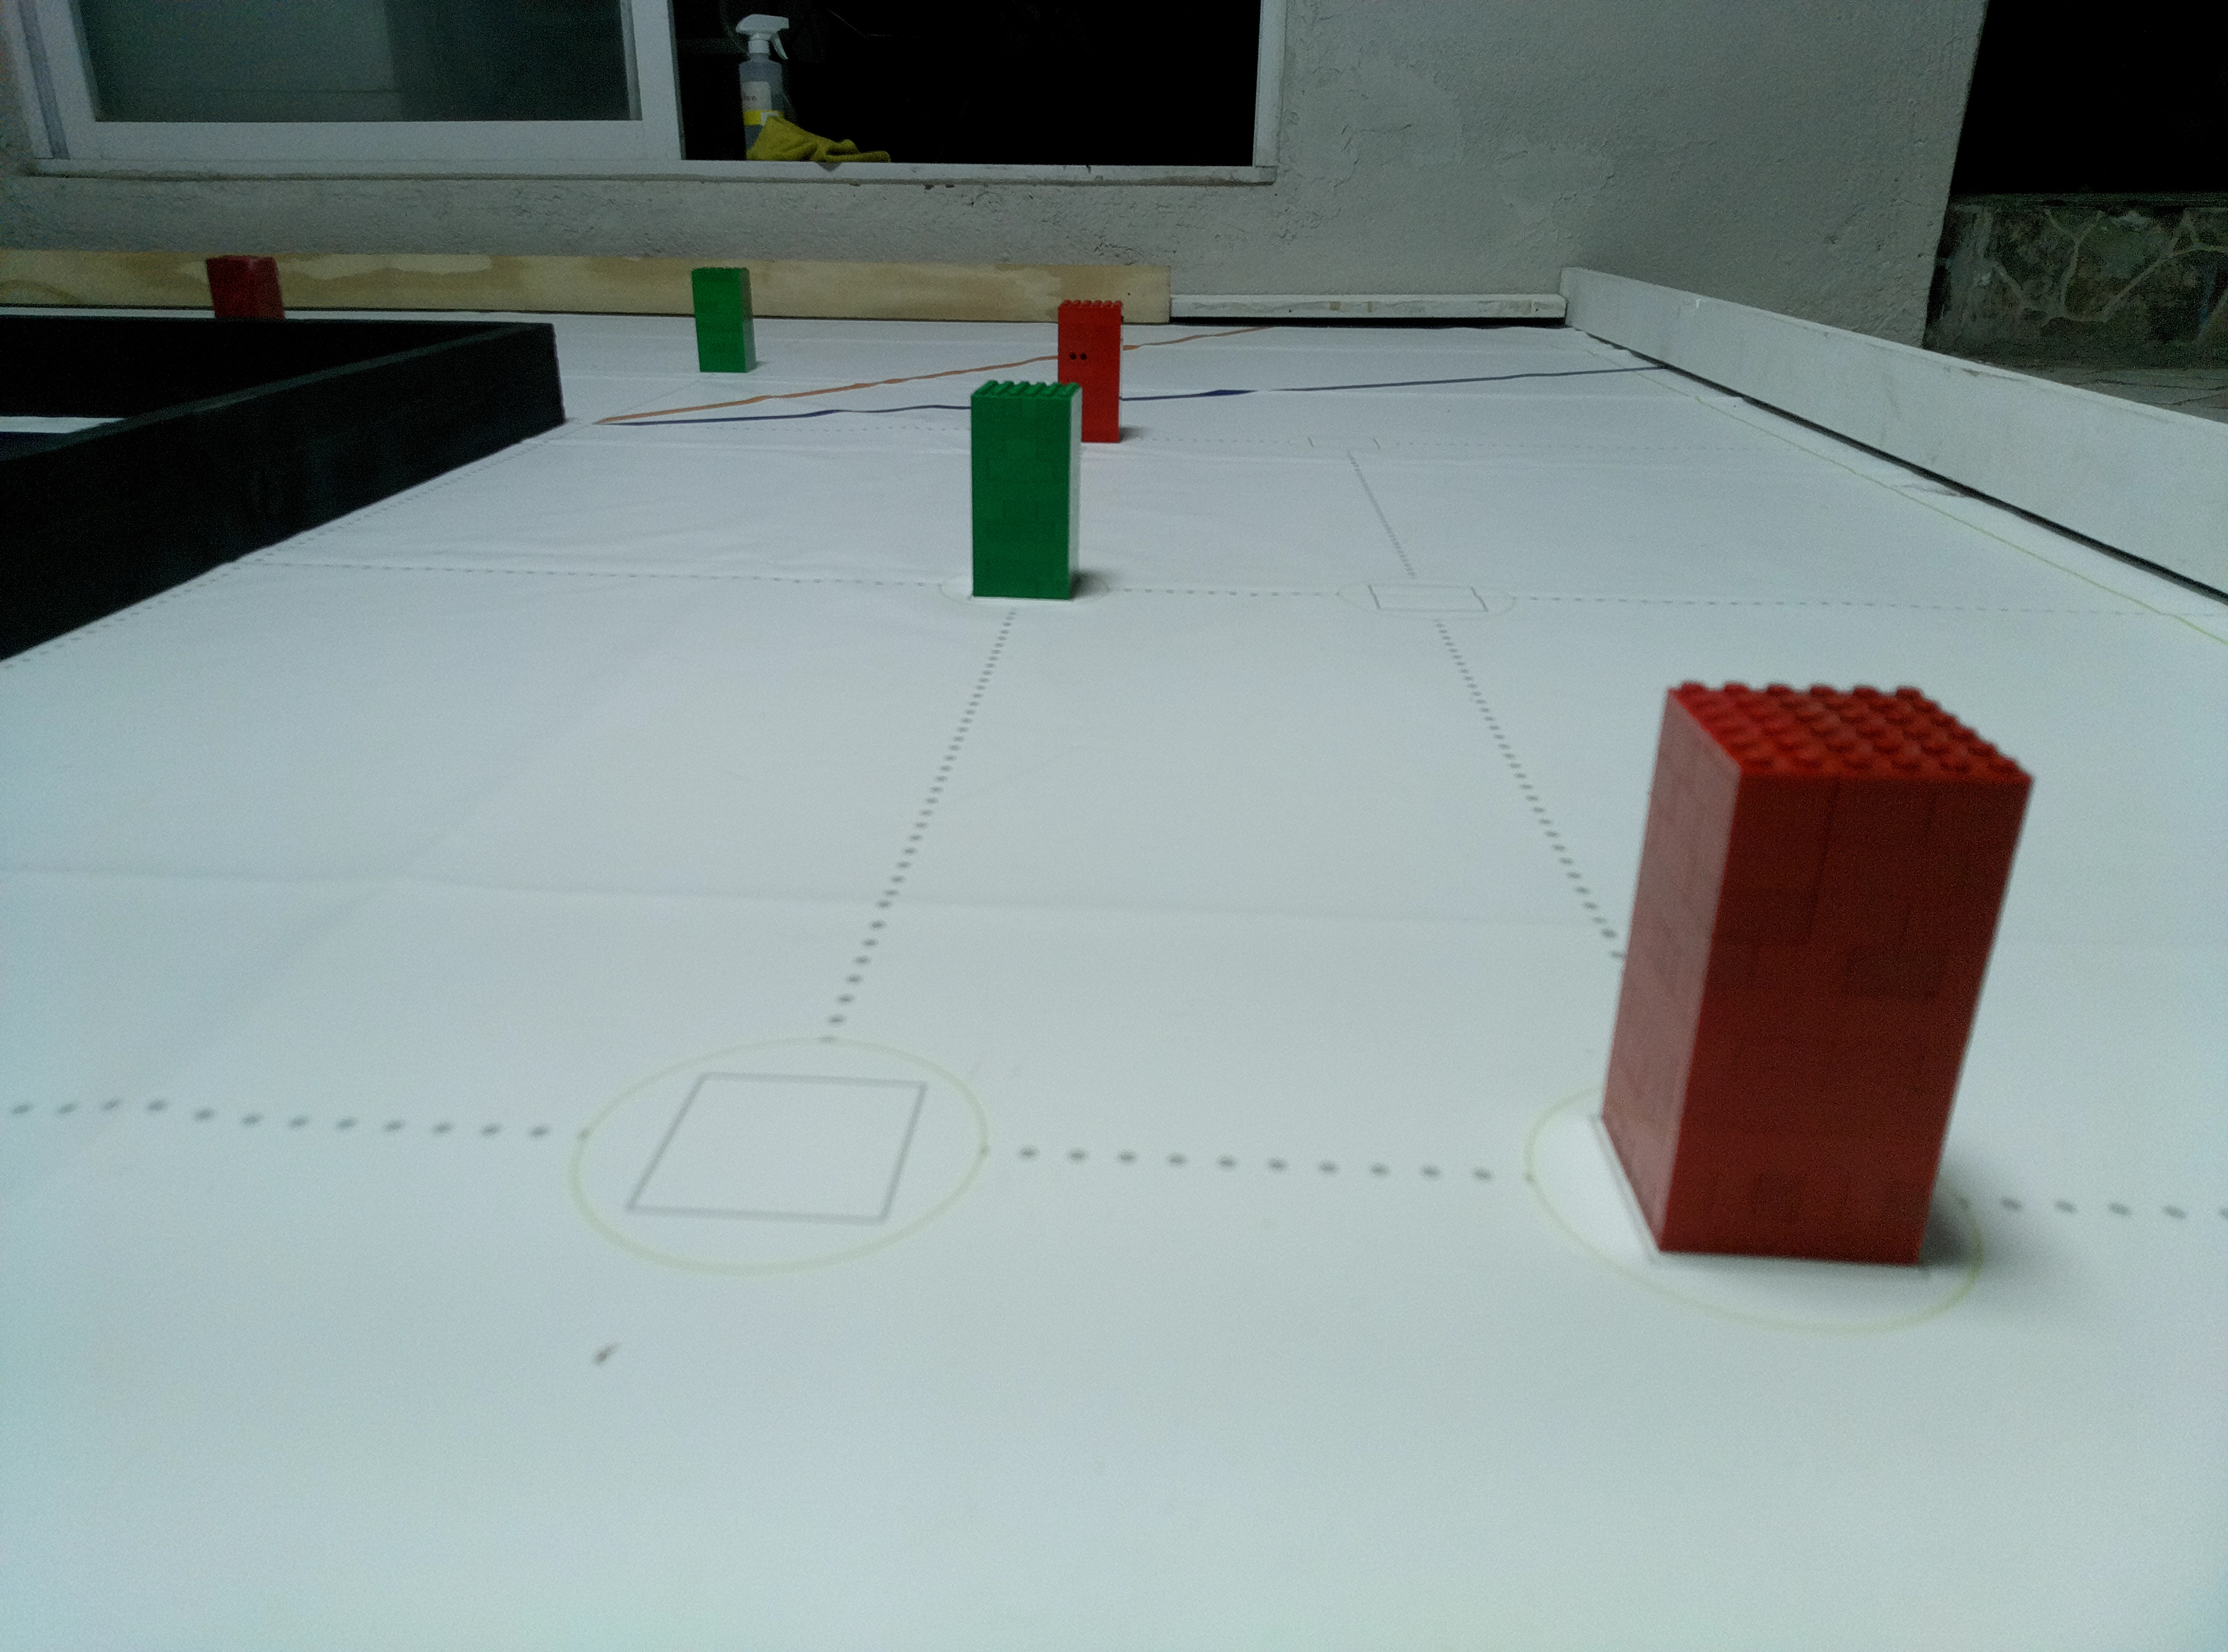greenbox: (965, 382, 1083, 602), (691, 265, 758, 375)
redbox: (1591, 678, 2039, 1270), (1052, 298, 1123, 446), (203, 255, 288, 318)
